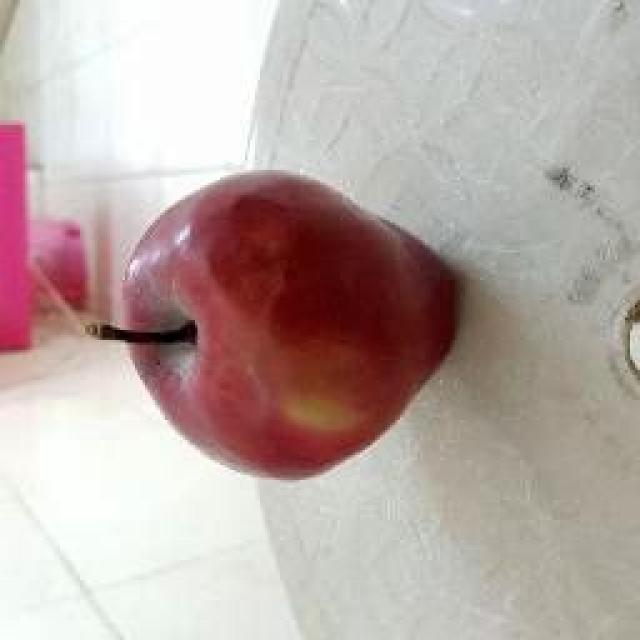Good_Apple: (95, 170, 460, 482)
